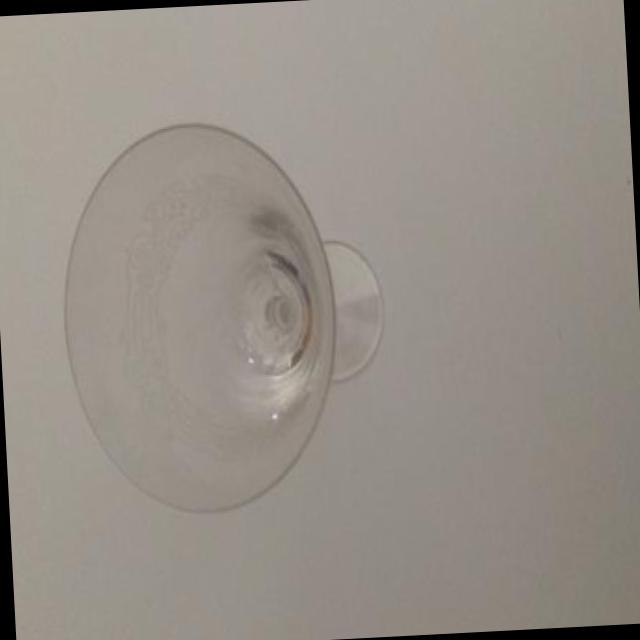chai_thuy_tinh: (60, 124, 381, 515)
